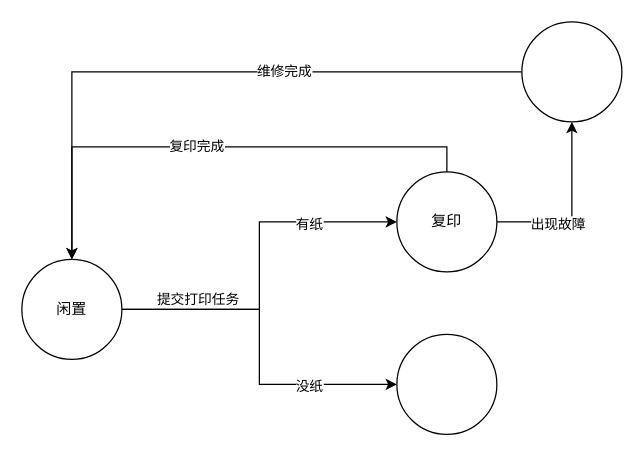
Image size: 644x456. Some labels were removed from this diagram. The centre of each missing label's shape, as x and y in pixels:
卡纸: the point at 571,71
缺纸: the point at 446,383
